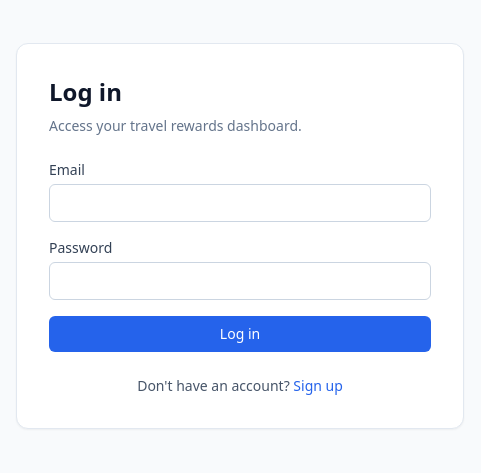
Test: LoginPage validation › shows a server error on invalid credentials
Type "user@example.com" into the field labelled "Email" at (240, 203), box top-left (49, 184), bottom-right (431, 222)
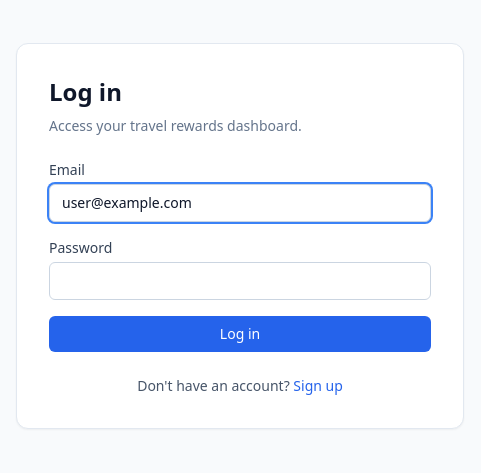
Type "wrongpassword" into the password field labelled "Password" at (240, 281), box top-left (49, 262), bottom-right (431, 300)
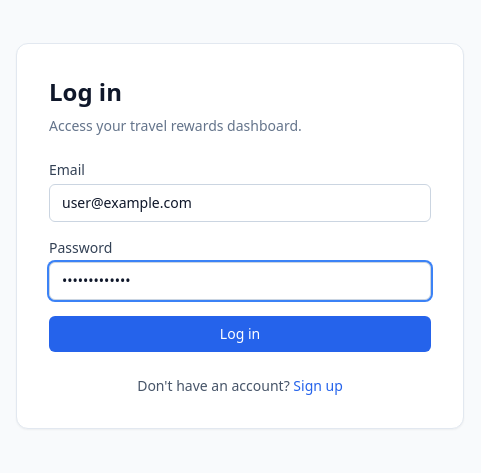
Click the button "Log in" at (240, 334), box top-left (49, 316), bottom-right (431, 352)
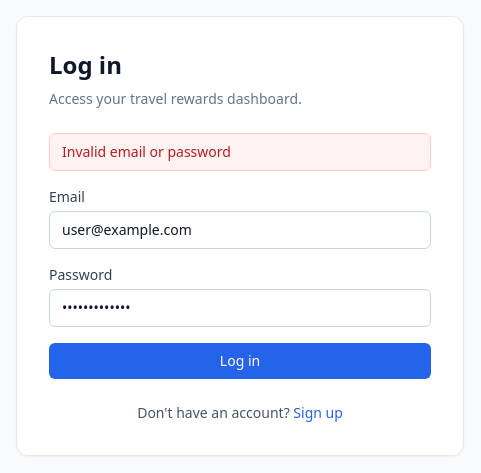
Expected: the text "Invalid email or password" is shown, top-left (49, 133), bottom-right (431, 171)
